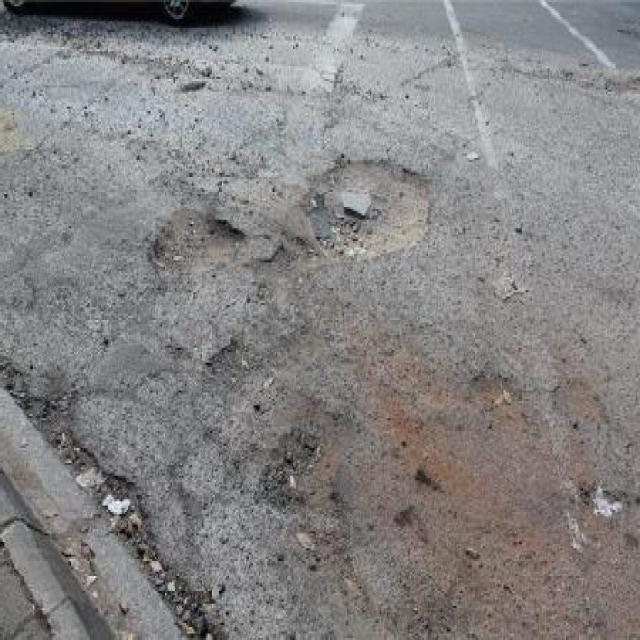pothole: (2, 399, 226, 638), (294, 153, 436, 264), (148, 204, 248, 290), (257, 426, 350, 514)
